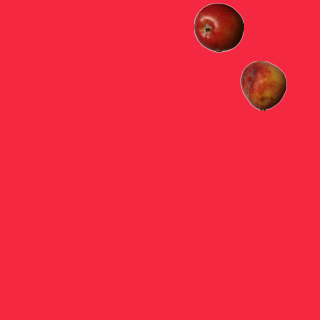Apple Braeburn: (193, 2, 243, 52)
Peach: (238, 60, 288, 110)
